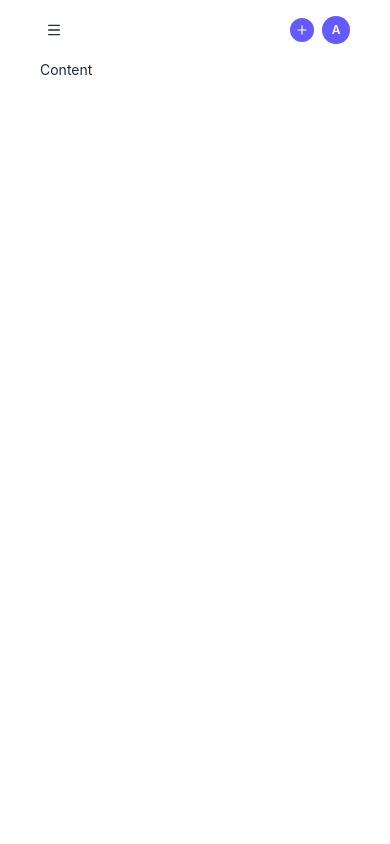
AppShell › closes when the scrim is clicked and restores scroll
Click the button named "Toggle navigation menu".
click(54, 30)  # box [40,16,68,44]
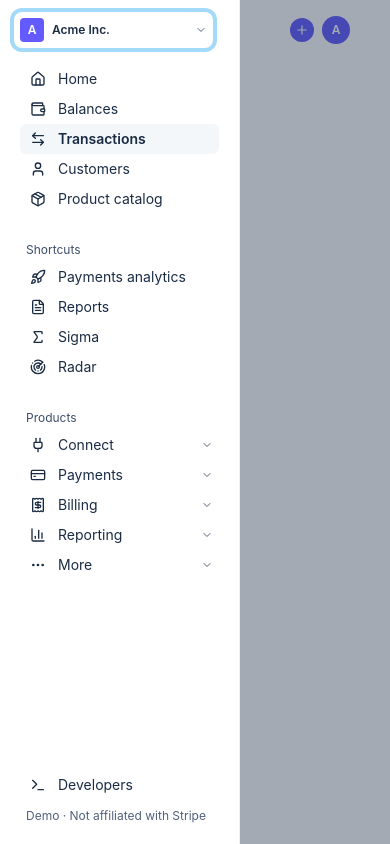
Click the element with test id "scrim".
click(367, 422)  # box [0,0,389,843]
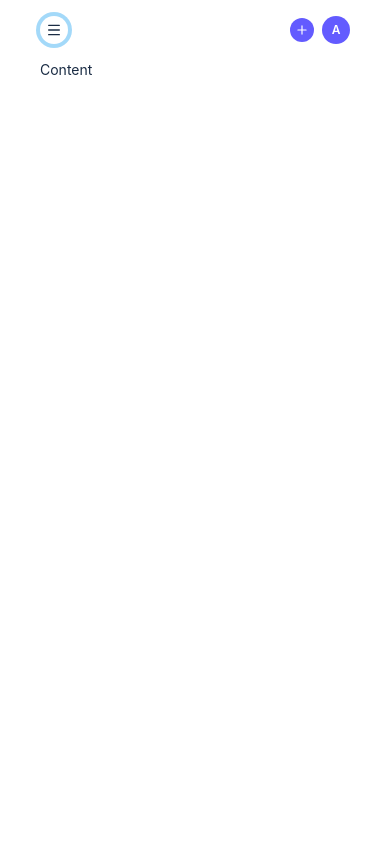
Check: the button named "Toggle navigation menu" is collapsed, box [40,16,68,44]
